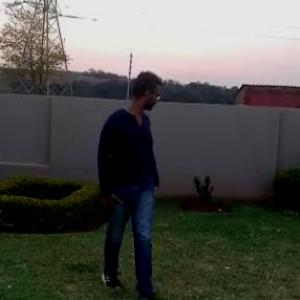follow: (95, 66, 166, 274)
